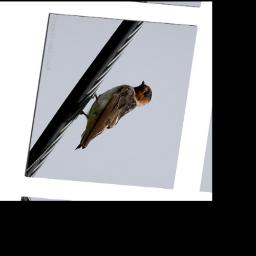Swallow: (69, 75, 156, 159)
